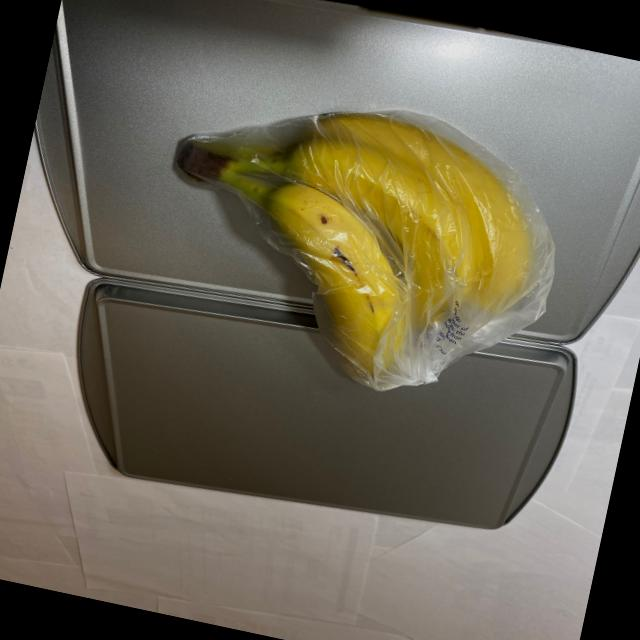banana: (132, 64, 575, 428)
